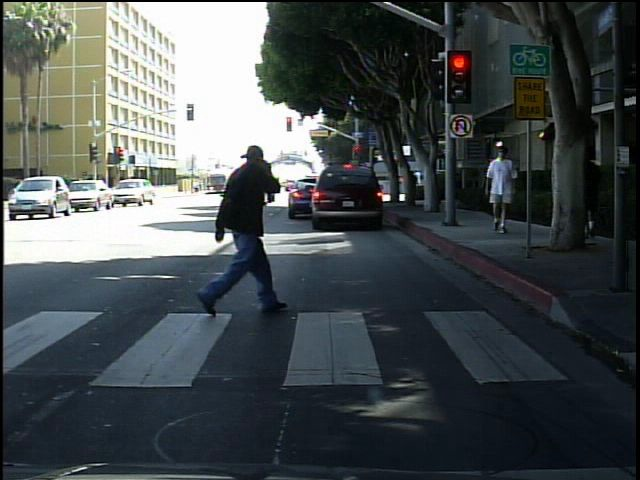person: (185, 122, 297, 336), (480, 145, 523, 240), (575, 137, 608, 246)
